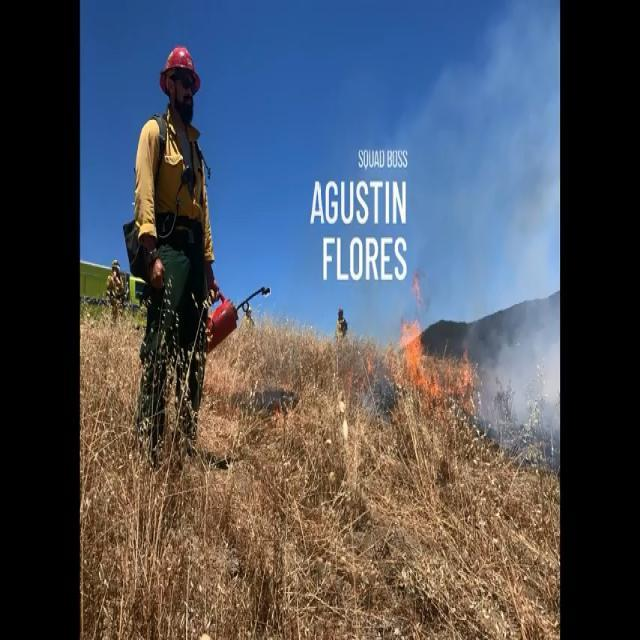Fire: (392, 272, 473, 396)
